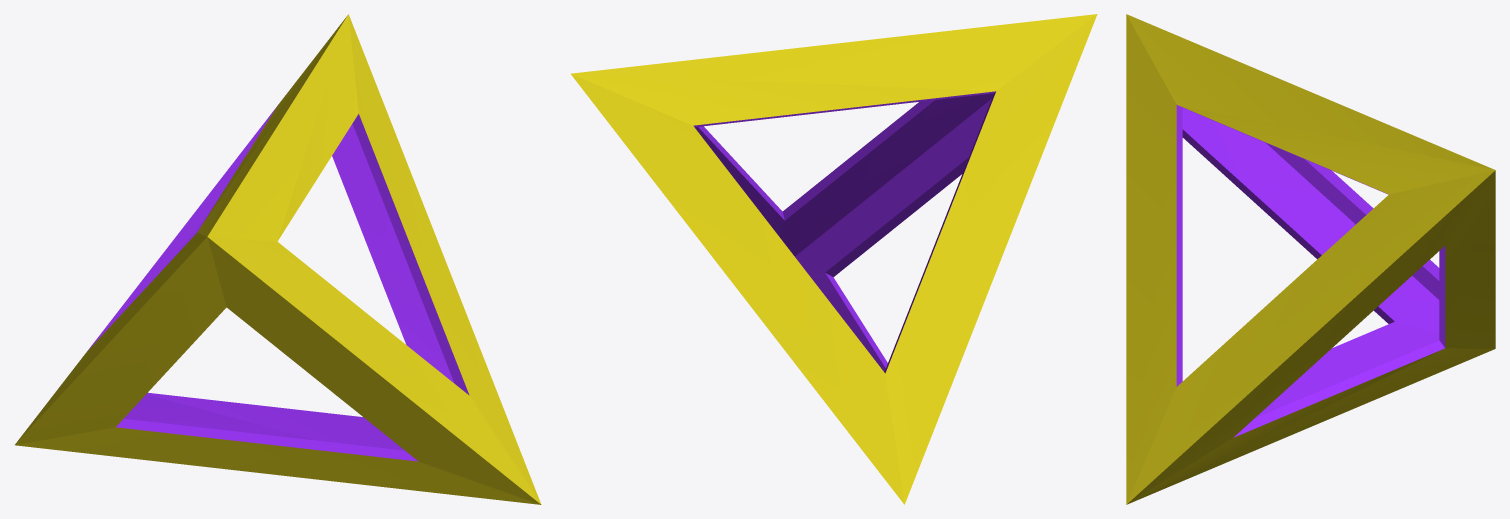
Rendered from _TetrahedronS1.glb.
3 renders of one model, left to right at view 1: azimuth 30°, elevation 25°; view 2: azimuth 150°, elevation 25°; view 3: azimuth 270°, elevation 25°, orthographic. The views are drawn at different scales.
Visible parts, largest first — view 1: root; view 2: root; view 3: root.
Part boxes in pixels (bbox=[...]): root: bbox=[15, 14, 541, 504]; root: bbox=[571, 14, 1097, 504]; root: bbox=[1126, 14, 1495, 504].
Bounding box in the file's own units: 0.7186 × 0.7186 × 0.7186.
